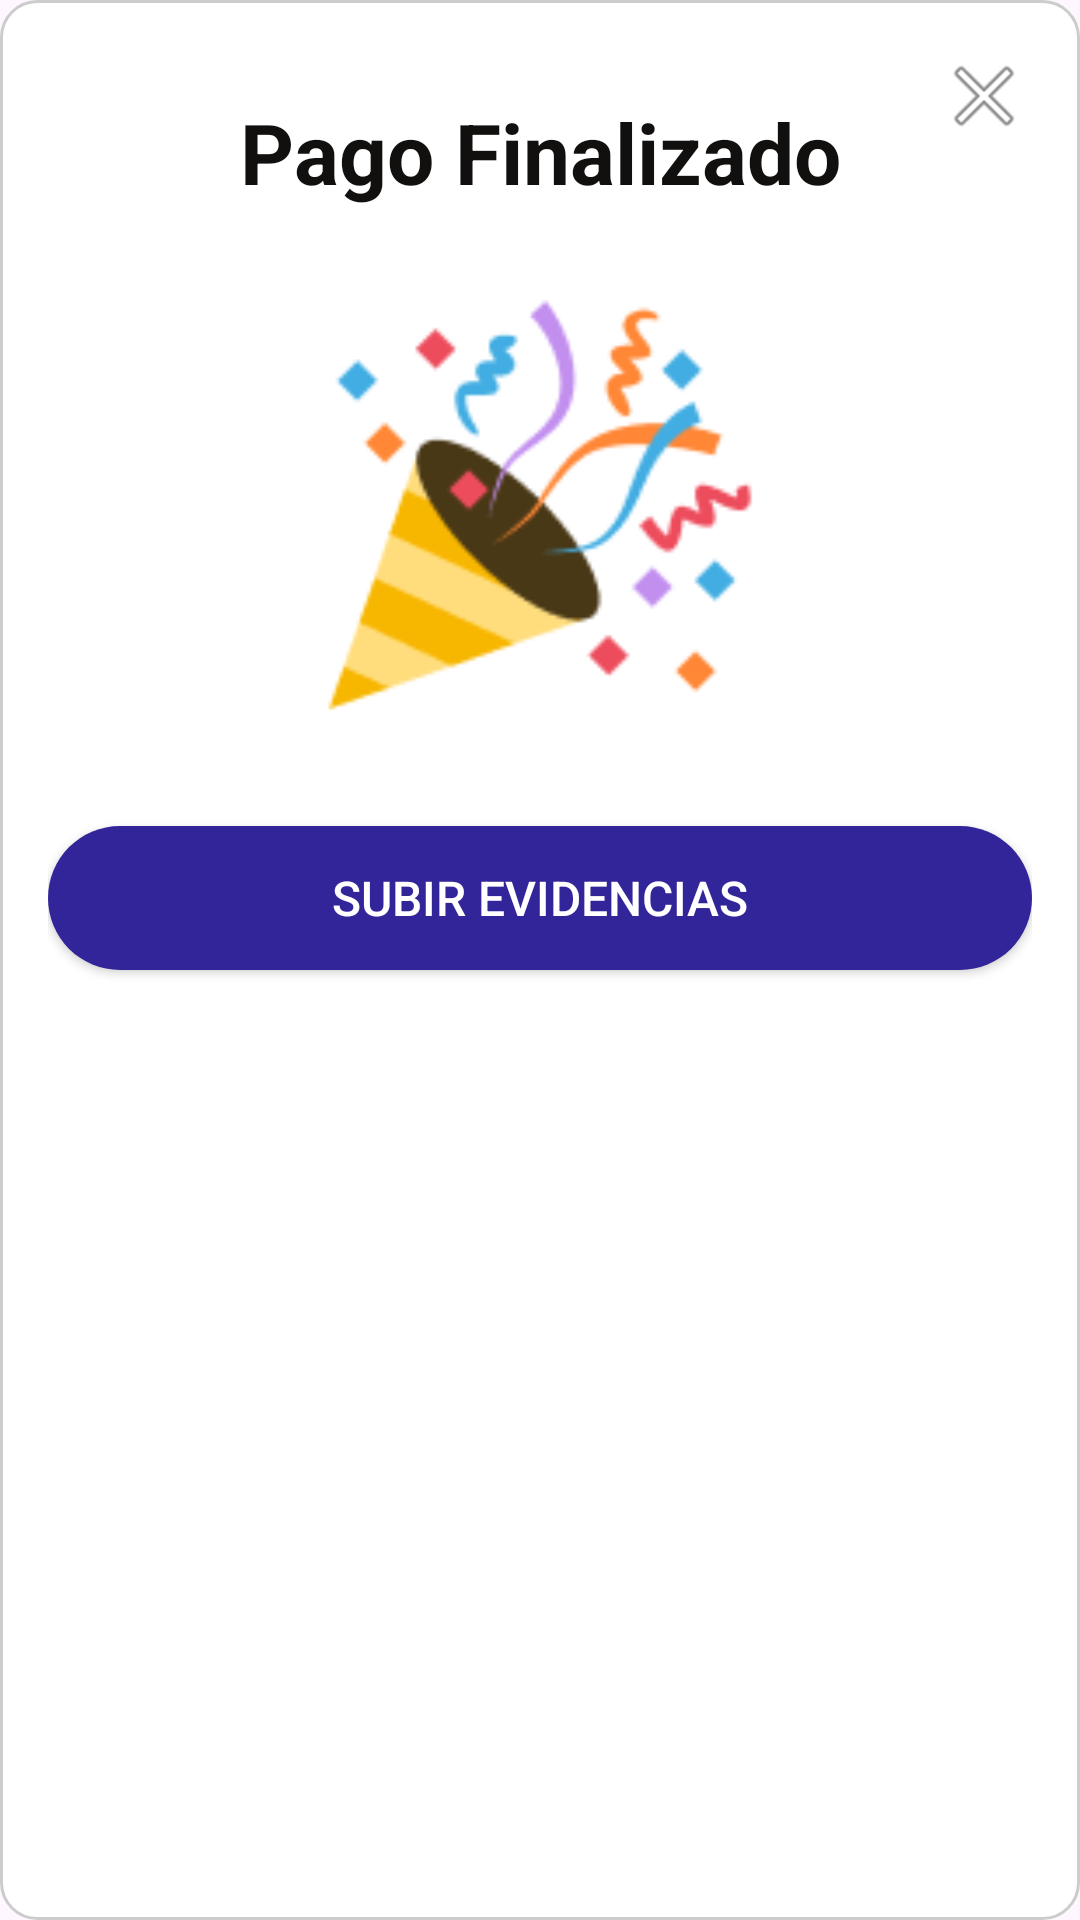

Locate icon controls on the screen. Image size 1080×1920, boxes as (x1, y1, x2, y2).
Cerrar ventana: (954, 66, 1014, 126)
